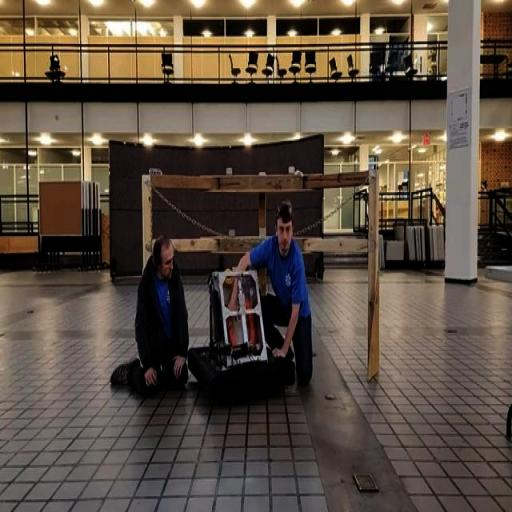robot: (190, 268, 301, 410)
